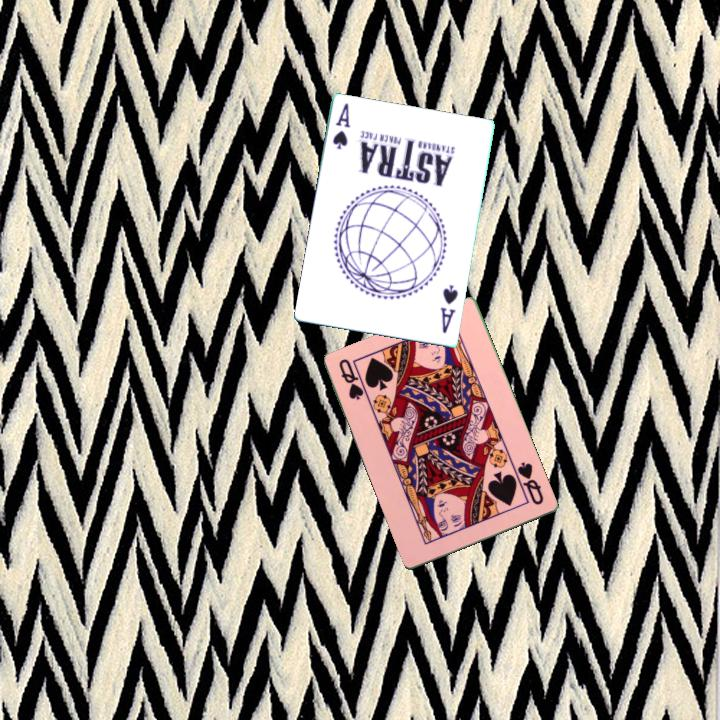As: (329, 100, 354, 152), (437, 284, 461, 337)
Qs: (510, 458, 547, 508), (336, 355, 367, 403)
